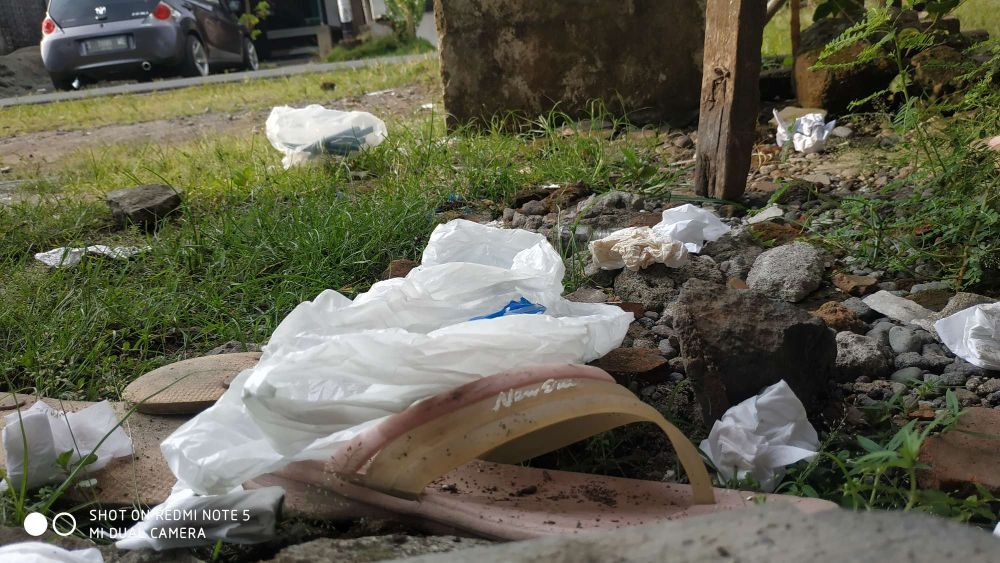plastik: (134, 249, 666, 491), (695, 375, 857, 502), (585, 194, 756, 267), (259, 88, 400, 173), (767, 94, 819, 165)
